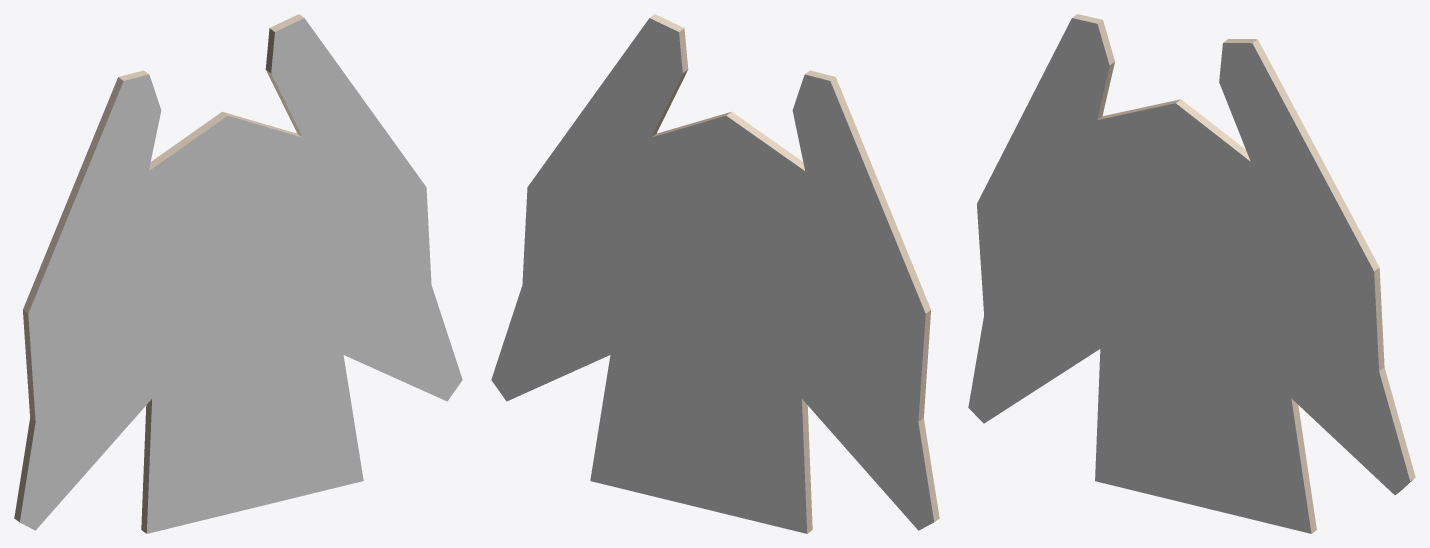
Rendered from monster4.fbx.
The picture shows the model from 3 angles, left to right: view 1: azimuth 30°, elevation 25°; view 2: azimuth 150°, elevation 25°; view 3: azimuth 330°, elevation 25°; orthographic projection.
Visible parts, largest first — view 1: Monster4; view 2: Monster4; view 3: Monster4.
Part boxes in pixels (x1=…): Monster4: x1=14, y1=14, x2=462, y2=533; Monster4: x1=491, y1=14, x2=939, y2=533; Monster4: x1=968, y1=14, x2=1415, y2=533.
Size of the model in its own units: 99.73 by 103 by 2.14.
